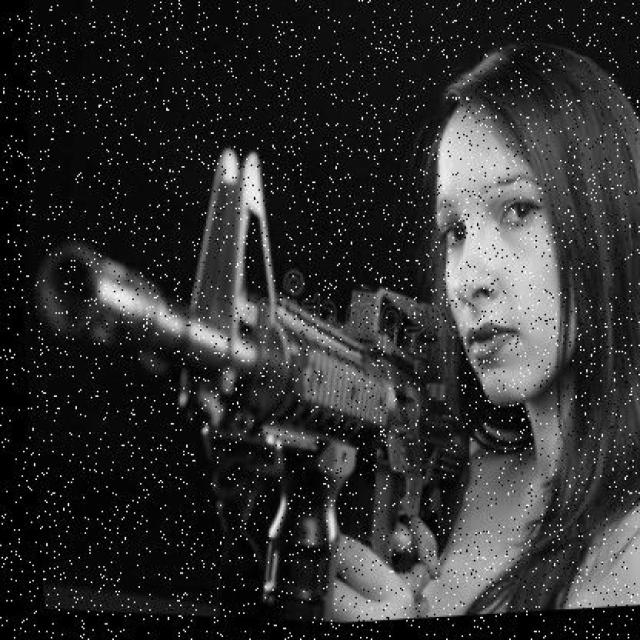weapon: (31, 144, 483, 617)
